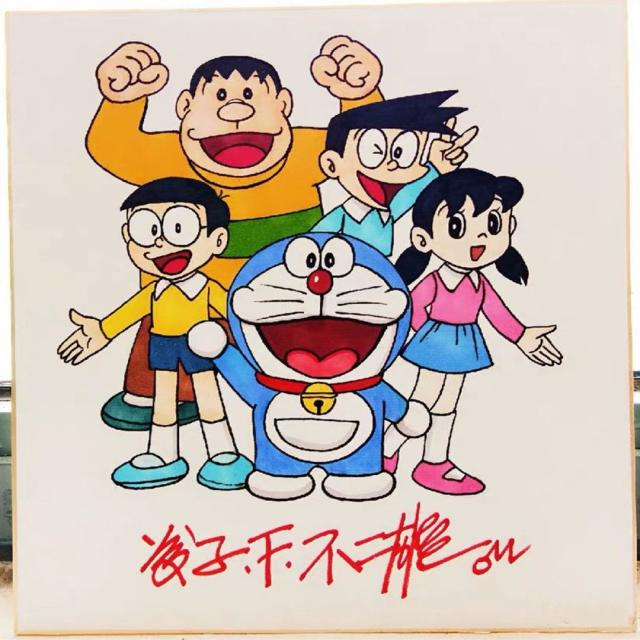doraemon: (209, 214, 431, 424)
jaian: (155, 46, 323, 202)
nobita: (94, 172, 244, 309)
shizuka: (387, 159, 558, 311)
suneo: (310, 74, 476, 222)
